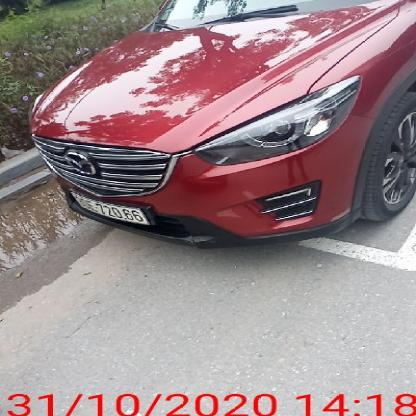biensoxe: (68, 186, 161, 228)
